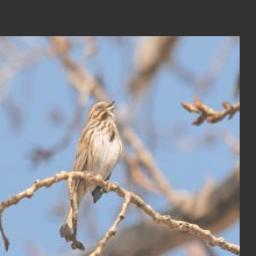Sparrow: (58, 96, 125, 243)
